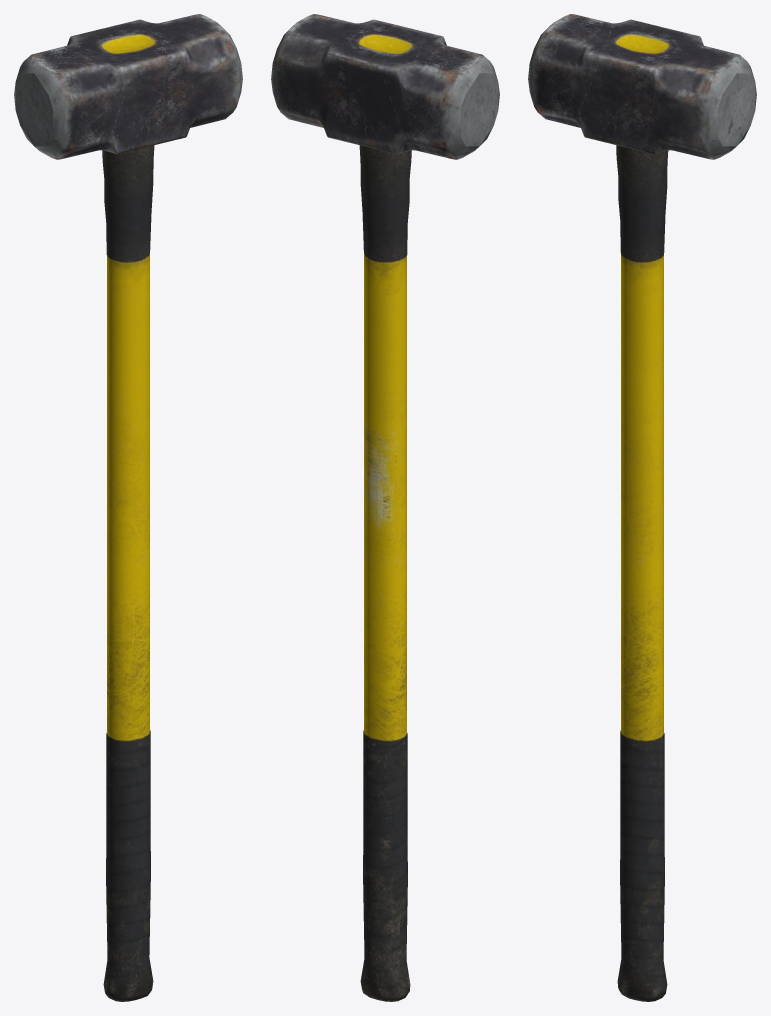
Rendered from sledgehammer_01.glb.
3 renders of one model, left to right at view 1: azimuth 30°, elevation 25°; view 2: azimuth 150°, elevation 25°; view 3: azimuth 330°, elevation 25°, orthographic.
Parts seen in each view (by area): view 1: sledgehammer_01; view 2: sledgehammer_01; view 3: sledgehammer_01.
Boxes of the visible parts, x1=… form: sledgehammer_01: x1=14, y1=14, x2=242, y2=1001; sledgehammer_01: x1=271, y1=14, x2=499, y2=1001; sledgehammer_01: x1=528, y1=14, x2=756, y2=1001.
Bounding box in the file's own units: 0.2084 × 1.01 × 0.0906.
1 material, 1 textured.
